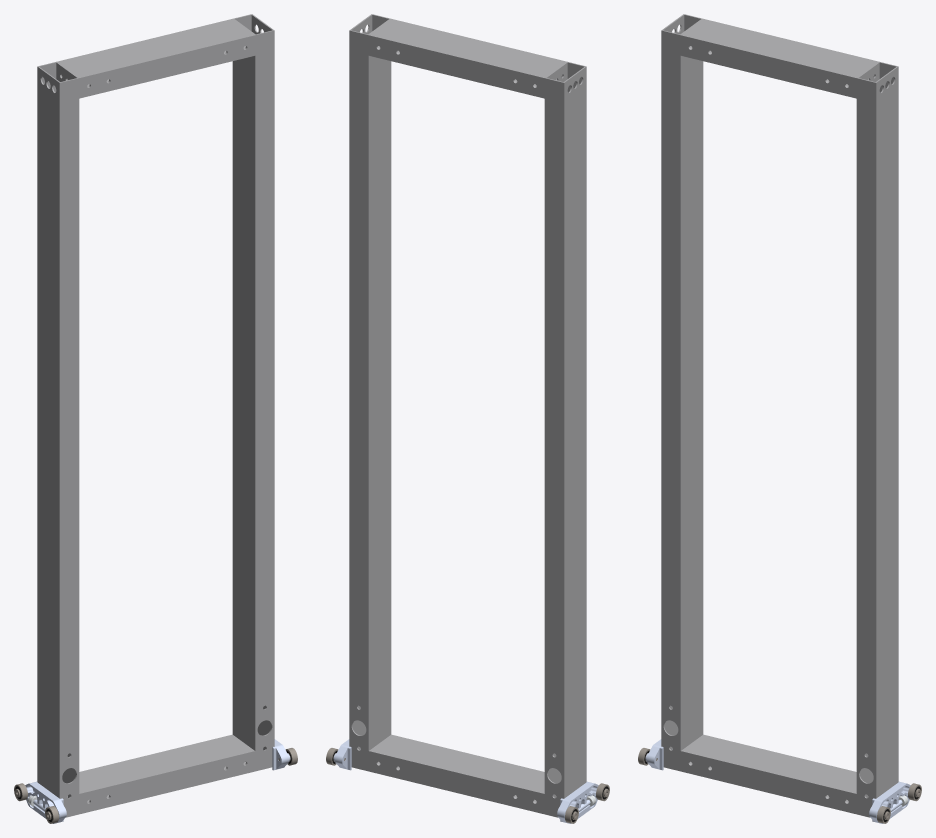
File: insideStage.glb
3 views of the same model, side by side, from view 1: azimuth 30°, elevation 25°; view 2: azimuth 150°, elevation 25°; view 3: azimuth 330°, elevation 25° (orthographic).
Parts seen in each view (by area): view 1: 03P-inner leg v17:1 (×2), 12P-inner b v5:1, 12P-inner b v5:2, WCP-0897-001 Rev1:1; view 2: 03P-inner leg v17:1 (×2), 12P-inner b v5:1, 12P-inner b v5:2, WCP-0897-001 Rev1:1; view 3: 03P-inner leg v17:1 (×2), 12P-inner b v5:1, 12P-inner b v5:2, WCP-0897-001 Rev1:1.
Part boxes in pixels (x1=…): 03P-inner leg v17:1 (×2): x1=37, y1=14, x2=274, y2=817; 12P-inner b v5:1: x1=57, y1=19, x2=255, y2=98; 12P-inner b v5:2: x1=67, y1=734, x2=255, y2=814; WCP-0897-001 Rev1:1: x1=25, y1=781, x2=66, y2=823; 03P-inner leg v17:1 (×2): x1=349, y1=14, x2=586, y2=817; 12P-inner b v5:1: x1=368, y1=19, x2=566, y2=98; 12P-inner b v5:2: x1=368, y1=734, x2=556, y2=814; WCP-0897-001 Rev1:1: x1=557, y1=781, x2=598, y2=823; 03P-inner leg v17:1 (×2): x1=661, y1=14, x2=898, y2=817; 12P-inner b v5:1: x1=680, y1=19, x2=878, y2=98; 12P-inner b v5:2: x1=680, y1=734, x2=868, y2=814; WCP-0897-001 Rev1:1: x1=869, y1=781, x2=910, y2=823.
Bounding box in the file's own units: 0.321 × 0.9176 × 0.0889.
